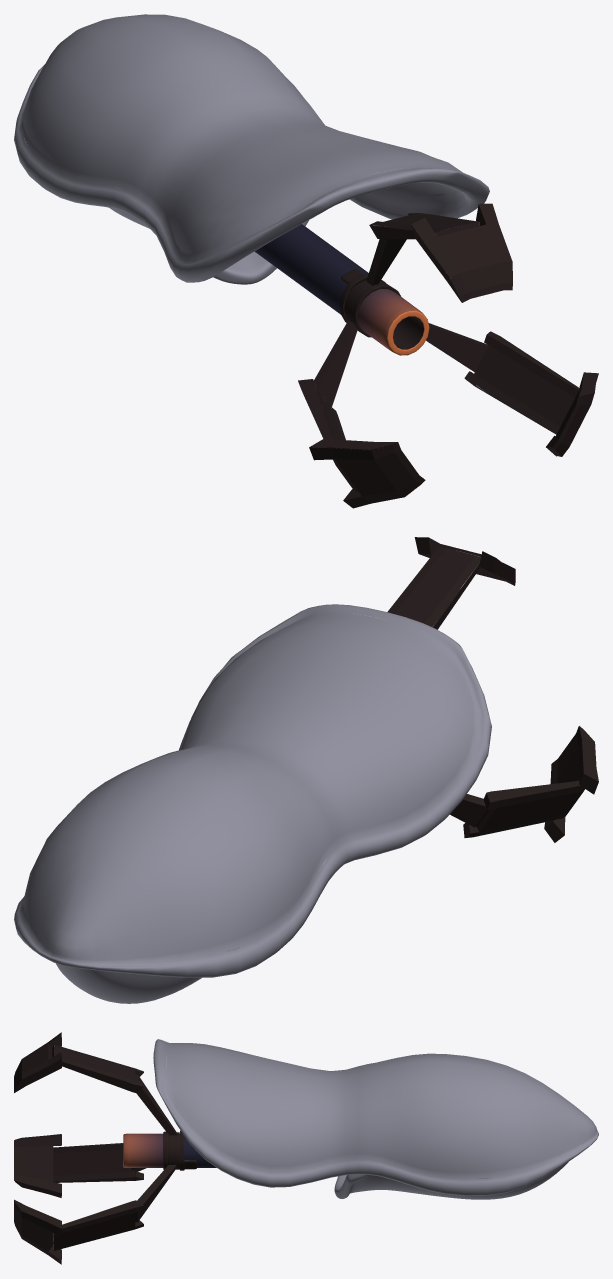
File: Weapon.fbx
The picture shows the model from 3 angles, top to bottom: view 1: azimuth 30°, elevation 25°; view 2: azimuth 150°, elevation 25°; view 3: azimuth 270°, elevation 25°; orthographic projection. The views are drawn at different scales.
Parts seen in each view (by area): view 1: Shell I.002; view 2: Shell I.002; view 3: Shell I.002.
Boxes of the visible parts, box(x1,y1,x2,y2) form: Shell I.002: box(14, 14, 598, 508); Shell I.002: box(14, 537, 598, 1003); Shell I.002: box(14, 1032, 598, 1264).
Bounding box in the file's own units: 310 × 280 × 787.
1 material, 1 textured.
